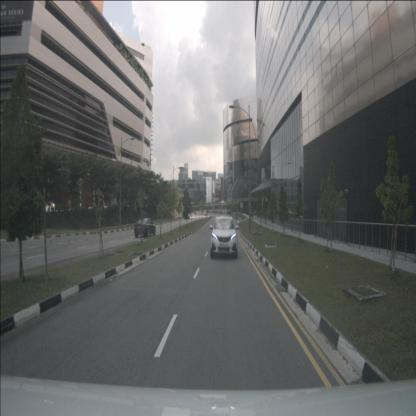vehicle-car: (210, 216, 238, 258), (134, 217, 156, 238)
